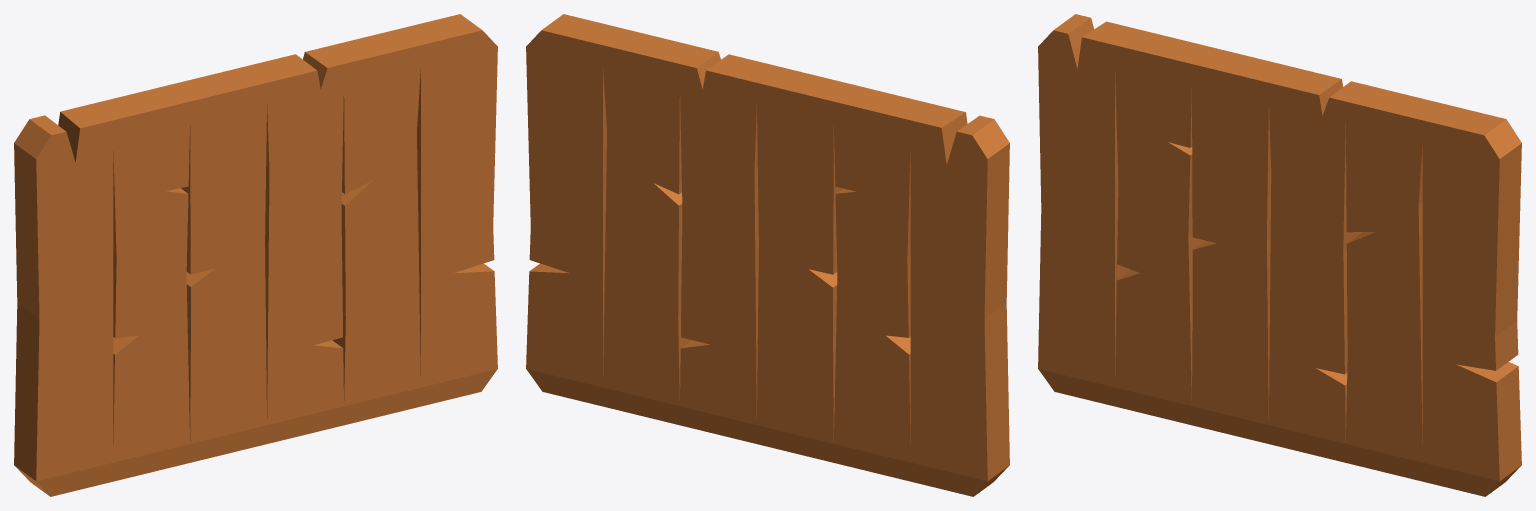
The model's file is WallFixeed.fbx.
The picture shows the model from 3 angles, left to right: view 1: azimuth 30°, elevation 25°; view 2: azimuth 150°, elevation 25°; view 3: azimuth 330°, elevation 25°; orthographic projection.
Parts seen in each view (by area): view 1: Wall; view 2: Wall; view 3: Wall.
Boxes of the visible parts, x1=… form: Wall: x1=14, y1=14, x2=497, y2=496; Wall: x1=526, y1=14, x2=1009, y2=496; Wall: x1=1038, y1=14, x2=1521, y2=496.
Size of the model in its own units: 240 by 180 by 20.
